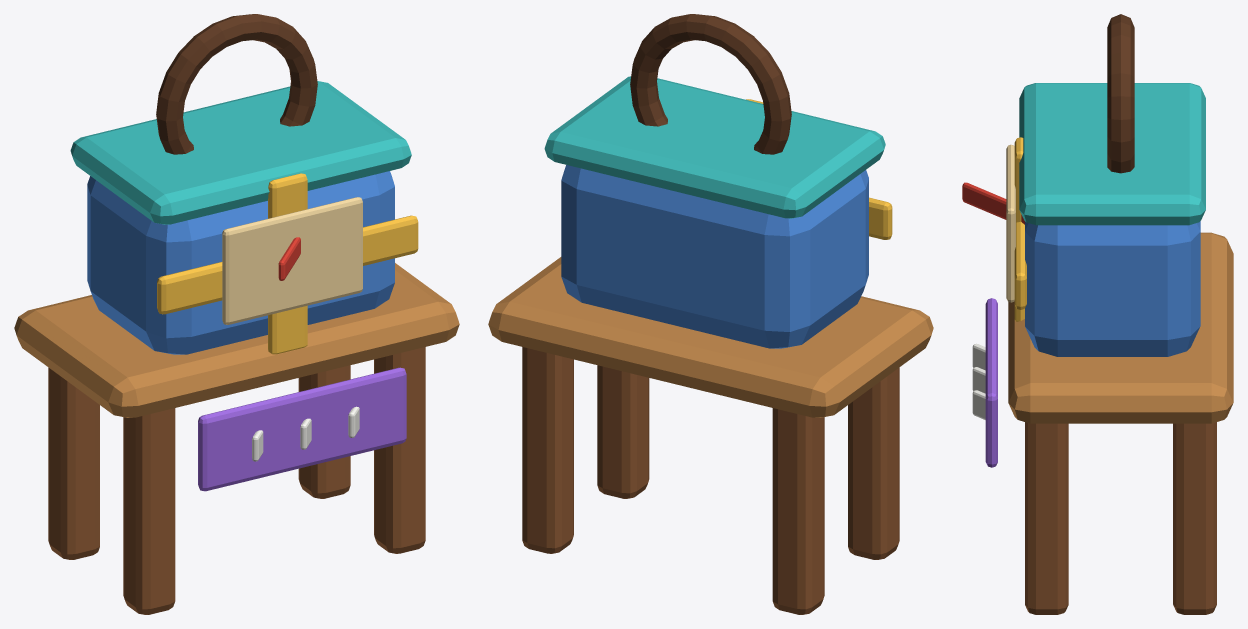
Rendered from grove_courier_parcel_stand.glb.
3 views of the same model, side by side, from view 1: azimuth 30°, elevation 25°; view 2: azimuth 150°, elevation 25°; view 3: azimuth 270°, elevation 25° (orthographic).
Visible parts, largest first — view 1: Parcel_Lid, Stand_Top, Parcel_Body, Stand_Direction_Plaque, Courier_Envelope, Stand_Leg_-0.52_-0.27, Stand_Leg_-0.52_0.27, Parcel_Handle, Stand_Leg_0.52_-0.27, Parcel_Strap_H, Parcel_Strap_V, Stand_Leg_0.52_0.27; view 2: Parcel_Body, Stand_Top, Parcel_Lid, Stand_Leg_-0.52_0.27, Stand_Leg_0.52_0.27, Stand_Leg_-0.52_-0.27, Parcel_Handle, Stand_Leg_0.52_-0.27, Parcel_Strap_H; view 3: Parcel_Lid, Parcel_Body, Stand_Top, Stand_Leg_0.52_0.27, Stand_Leg_0.52_-0.27, Parcel_Handle, Stand_Direction_Plaque, Courier_Envelope, Parcel_Strap_H, Courier_Envelope_Flap, Parcel_Strap_V.
Boxes of the visible parts, box(x1,y1,x2,y2) form: Parcel_Lid: box(70, 81, 411, 224); Stand_Top: box(14, 263, 459, 417); Parcel_Body: box(87, 171, 394, 354); Stand_Direction_Plaque: box(198, 367, 406, 491); Courier_Envelope: box(222, 197, 362, 324); Stand_Leg_-0.52_-0.27: box(123, 408, 175, 614); Stand_Leg_-0.52_0.27: box(48, 367, 99, 559); Parcel_Handle: box(156, 14, 317, 154); Stand_Leg_0.52_-0.27: box(374, 347, 425, 553); Parcel_Strap_H: box(157, 215, 418, 314); Parcel_Strap_V: box(268, 173, 307, 354); Stand_Leg_0.52_0.27: box(298, 365, 350, 498); Parcel_Body: box(561, 165, 868, 348); Stand_Top: box(488, 257, 933, 417); Parcel_Lid: box(544, 76, 885, 218); Stand_Leg_-0.52_0.27: box(772, 408, 824, 614); Stand_Leg_0.52_0.27: box(522, 347, 573, 553); Stand_Leg_-0.52_-0.27: box(848, 367, 899, 559); Parcel_Handle: box(630, 14, 791, 154); Stand_Leg_0.52_-0.27: box(597, 365, 649, 498); Parcel_Strap_H: box(869, 197, 892, 239); Parcel_Lid: box(1019, 83, 1205, 225); Parcel_Body: box(1025, 221, 1200, 356); Stand_Top: box(1008, 232, 1233, 423); Stand_Leg_0.52_0.27: box(1173, 422, 1216, 614); Stand_Leg_0.52_-0.27: box(1025, 422, 1068, 614); Parcel_Handle: box(1107, 14, 1134, 173); Stand_Direction_Plaque: box(985, 298, 997, 467); Courier_Envelope: box(1006, 144, 1015, 302); Parcel_Strap_H: box(1014, 221, 1026, 309); Courier_Envelope_Flap: box(962, 182, 1024, 224); Parcel_Strap_V: box(1014, 137, 1024, 321).
Bounding box in the file's own units: 1.45 × 2.12 × 0.9872.
